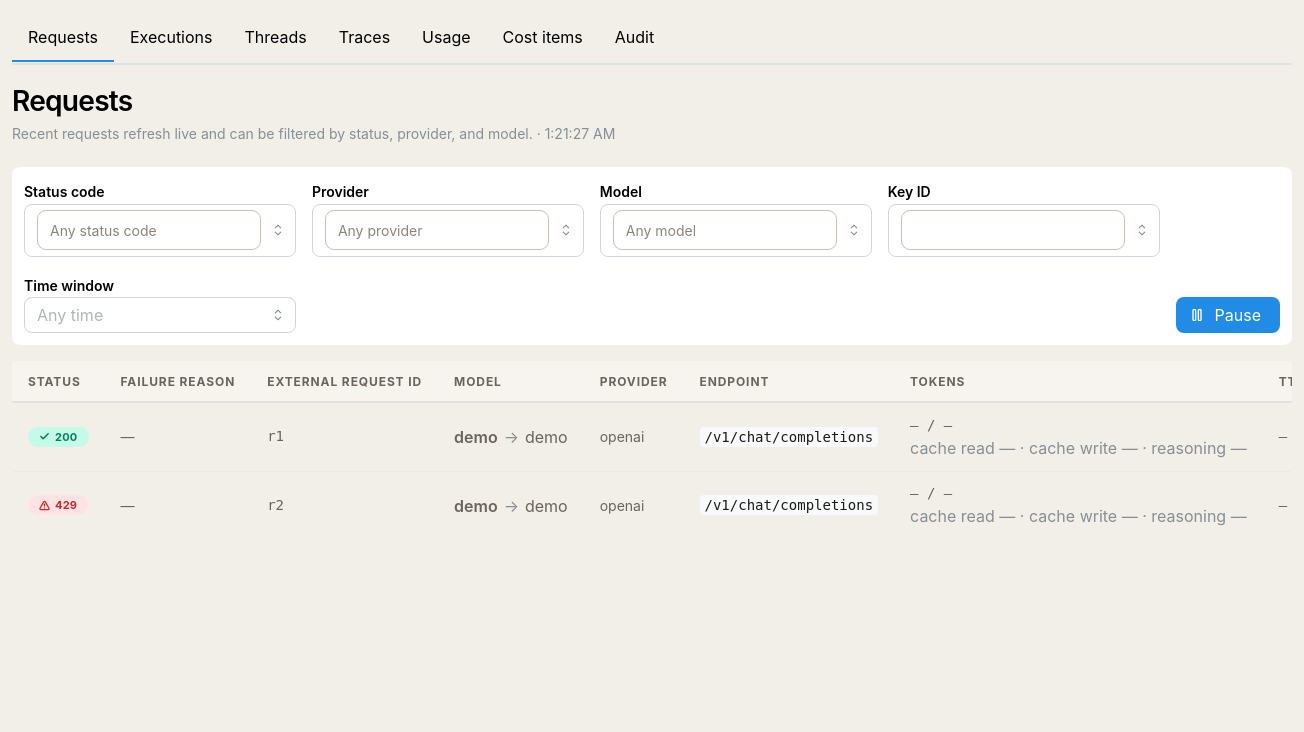
Test case: filters only offer what the projection emitted › cannot offer a status code that never occurred
Check: the button "Pause" is shown, box [1176,297,1280,333]
What coordinates should you click on to do the following:
click the dropdown labelled "Status code"
I would click on:
 (149, 230)
Its box is [37,210,261,250].
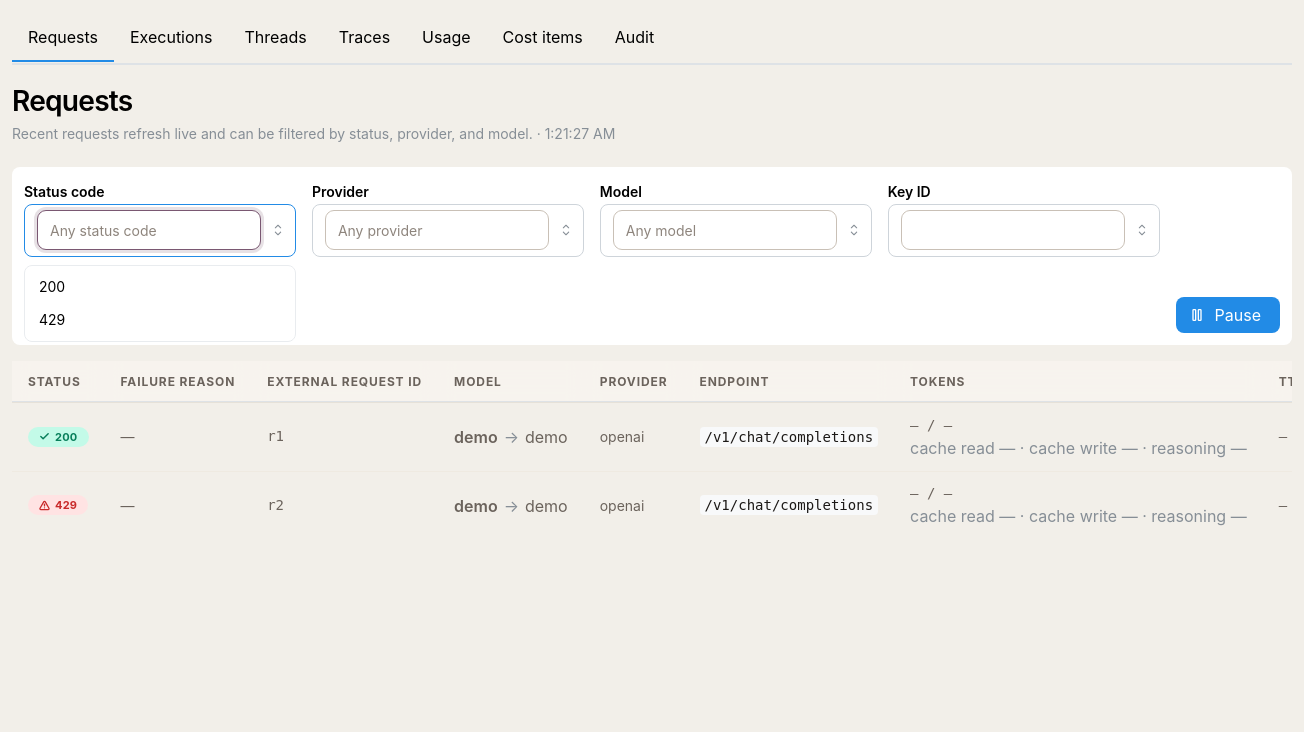
Check: the option "200" is shown, box [39,278,65,295]
Check: the option "429" is shown, box [39,311,65,328]
